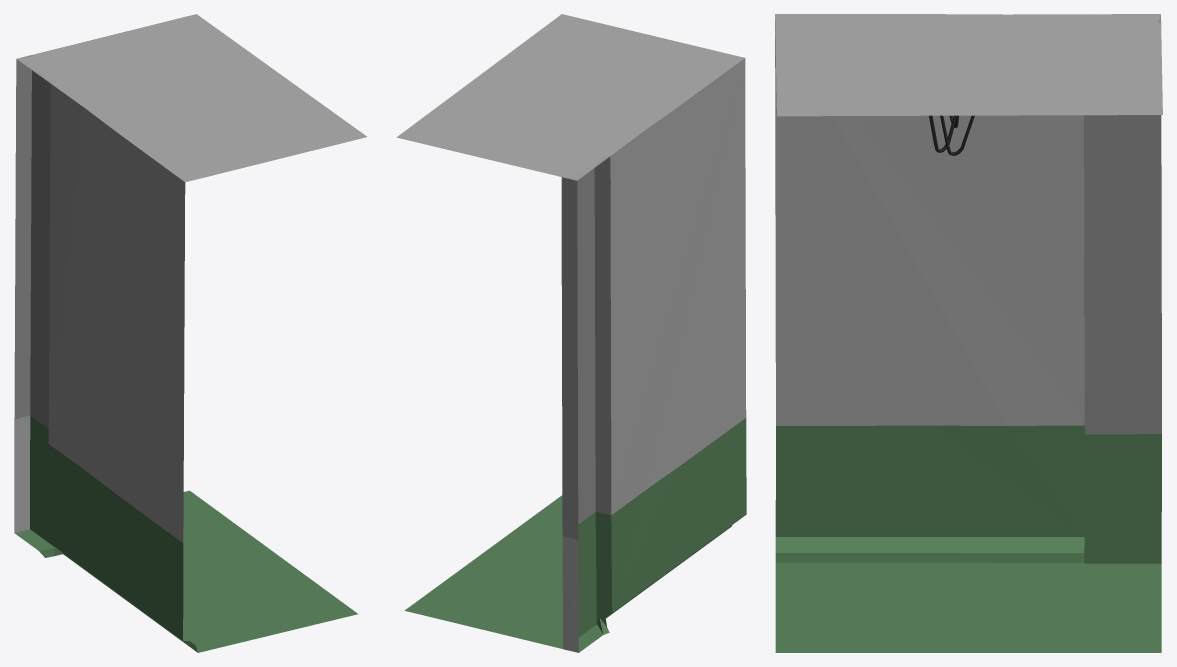
The model's file is mapa2.fbx.
3 renders of one model, left to right at view 1: azimuth 30°, elevation 25°; view 2: azimuth 150°, elevation 25°; view 3: azimuth 270°, elevation 25°, orthographic. The views are drawn at different scales.
Parts seen in each view (by area): view 1: pPlane21; view 2: pPlane21; view 3: pPlane21.
Boxes of the visible parts, x1,y1,x2,y2 form: pPlane21: (14,14,366,652); pPlane21: (396,14,746,652); pPlane21: (775,14,1162,652).
Size of the model in its own units: 3.46 by 8.5 by 5.49.
